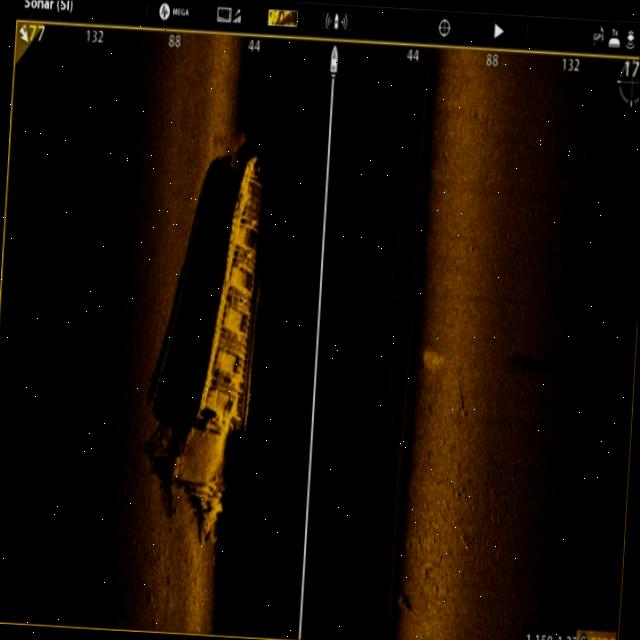shipwreck: (166, 136, 274, 539)
